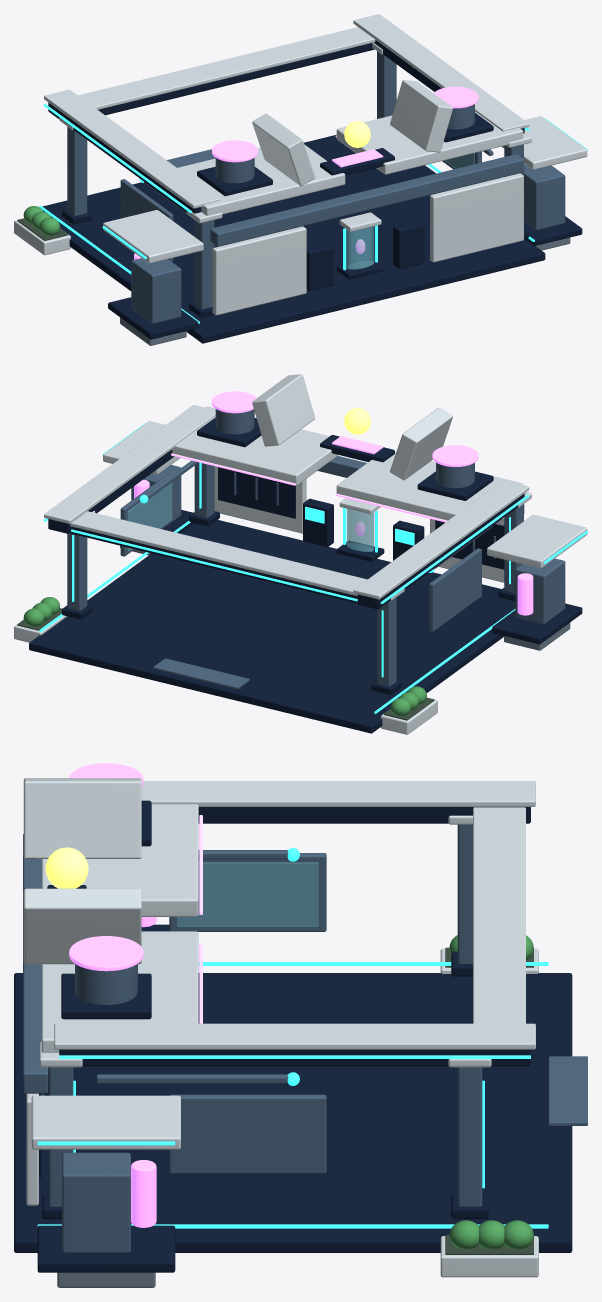
Rendered from LAB_Tier_5.glb.
The picture shows the model from 3 angles, top to bottom: view 1: azimuth 30°, elevation 25°; view 2: azimuth 150°, elevation 25°; view 3: azimuth 270°, elevation 25°; orthographic projection. The views are drawn at different scales.
Visible parts, largest first — view 1: LAB_Floor_Fascia.004, LAB_Wall_Straight_L.004, LAB_Wall_Straight_R.004, LAB_Back_Header.004, LAB_Entrance_HeaderCap.004, LAB_Roof_BeamCap_L.004, LAB_Roof_BeamCap_R.004, LAB_Roof_Back_R.004, LAB_Roof_Back_L.004, LAB_Wing_Roof_L.002, LAB_Legend_Fin_R, LAB_Wing_Equipment_L.002 (+30 smaller); view 2: LAB_Floor_Fascia.004, LAB_Entrance_HeaderCap.004, LAB_Roof_Back_R.004, LAB_Roof_BeamCap_L.004, LAB_Roof_BeamCap_R.004, LAB_Roof_Back_L.004, LAB_Wing_Roof_L.002, LAB_Legend_Fin_R, LAB_Window_Frame_L.004, LAB_Wall_Inset_R.004, LAB_Legend_Fin_L, LAB_Wing_Equipment_L.002 (+36 smaller); view 3: LAB_Floor_Fascia.004, LAB_Roof_BeamCap_R.004, LAB_Window_Frame_R.004, LAB_Entrance_HeaderCap.004, LAB_Roof_BeamCap_L.004, LAB_Window_Frame_L.004, LAB_Legend_Fin_L, LAB_Roof_Back_L.004, LAB_GlassPanel_L.004, LAB_Wing_Roof_R.002, LAB_Legend_Fin_R, LAB_Roof_Back_R.004 (+29 smaller).
Part boxes in pixels (x1,y1,x2,y2): LAB_Floor_Fascia.004: (42,134,545,343); LAB_Wall_Straight_L.004: (212,226,306,315); LAB_Wall_Straight_R.004: (430,173,523,262); LAB_Back_Header.004: (210,154,524,246); LAB_Entrance_HeaderCap.004: (78,27,375,109); LAB_Roof_BeamCap_L.004: (44,89,219,208); LAB_Roof_BeamCap_R.004: (353,14,529,131); LAB_Roof_Back_R.004: (336,111,523,174); LAB_Roof_Back_L.004: (177,144,345,215); LAB_Wing_Roof_L.002: (103,210,203,263); LAB_Legend_Fin_R: (390,80,452,152); LAB_Wing_Equipment_L.002: (131,258,181,323); LAB_Floor_Fascia.004: (29,520,515,733); LAB_Entrance_HeaderCap.004: (70,511,367,596); LAB_Roof_Back_R.004: (172,406,338,485); LAB_Roof_BeamCap_L.004: (353,480,529,599); LAB_Roof_BeamCap_R.004: (44,405,215,523); LAB_Roof_Back_L.004: (336,452,523,520); LAB_Wing_Roof_L.002: (487,514,587,568); LAB_Legend_Fin_R: (252,374,315,446); LAB_Window_Frame_L.004: (429,548,481,631); LAB_Wall_Inset_R.004: (218,467,295,518); LAB_Legend_Fin_L: (390,407,452,480); LAB_Wing_Equipment_L.002: (515,558,565,624); LAB_Floor_Fascia.004: (14,973,572,1252); LAB_Roof_BeamCap_R.004: (54,1023,535,1049); LAB_Window_Frame_R.004: (169,1094,326,1173); LAB_Entrance_HeaderCap.004: (473,807,525,1023); LAB_Roof_BeamCap_L.004: (141,781,535,806); LAB_Window_Frame_L.004: (169,853,326,931); LAB_Legend_Fin_L: (23,778,141,858); LAB_Roof_Back_L.004: (41,804,198,916); LAB_GlassPanel_L.004: (177,862,318,926); LAB_Wing_Roof_R.002: (31,1095,180,1149); LAB_Legend_Fin_R: (23,888,141,964); LAB_Roof_Back_R.004: (41,931,198,1052).
Size of the model in its own units: 41.78 by 16.2 by 29.2.
